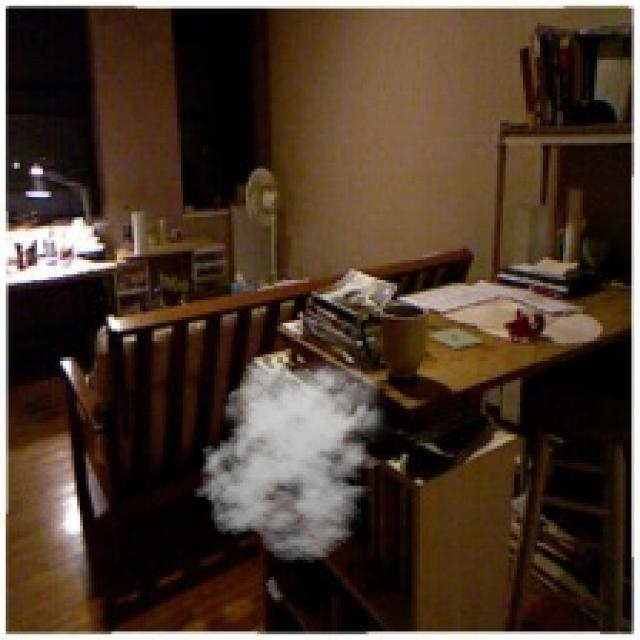smoke: (194, 351, 394, 563)
